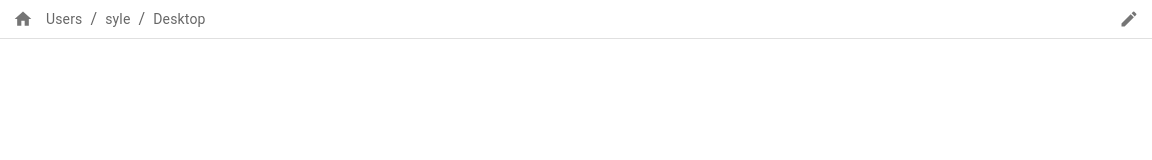
Test: PathBar — UUID never leaks into the editable input › local paths still pass through unchanged
Click the button named "Edit path". click: (1129, 19)
box: x1=1114 y1=4 x2=1144 y2=34
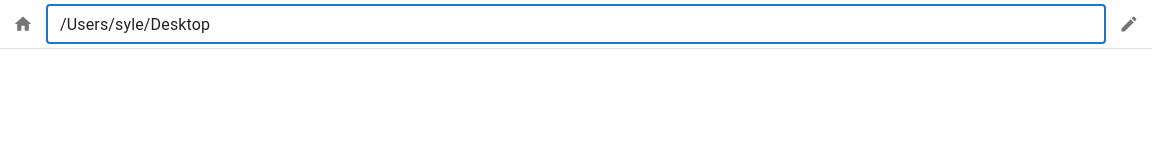
Now the field holds "/Users/syle/Desktop", box x1=46 y1=4 x2=1106 y2=44
